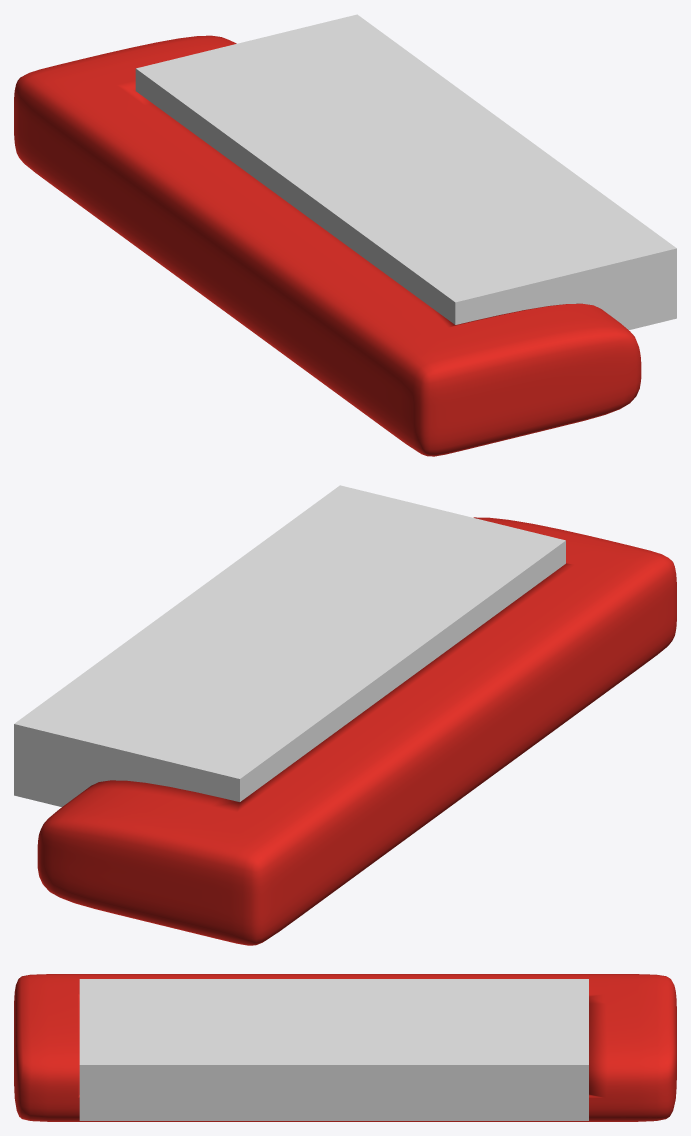
The model's file is piano.fbx.
The picture shows the model from 3 angles, top to bottom: view 1: azimuth 30°, elevation 25°; view 2: azimuth 150°, elevation 25°; view 3: azimuth 270°, elevation 25°; orthographic projection. The views are drawn at different scales.
Parts seen in each view (by area): view 1: Cube, Cube.004; view 2: Cube, Cube.004; view 3: Cube.004, Cube.
Boxes of the visible parts, x1,y1,x2,y2 form: Cube: [14, 35, 641, 456]; Cube.004: [135, 14, 676, 329]; Cube: [37, 517, 676, 945]; Cube.004: [14, 485, 565, 806]; Cube.004: [79, 979, 588, 1120]; Cube: [14, 974, 676, 1121].
Size of the model in its own units: 1010 by 382 by 2461.
